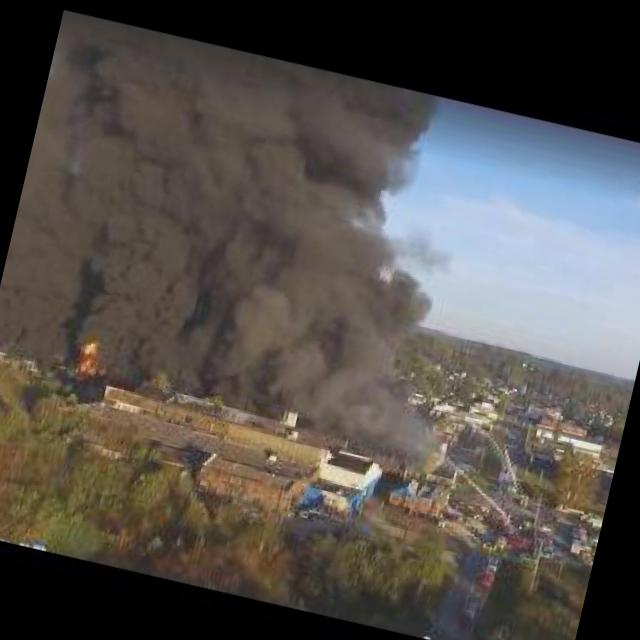fire: (68, 332, 114, 381)
smoke: (0, 9, 519, 457)
